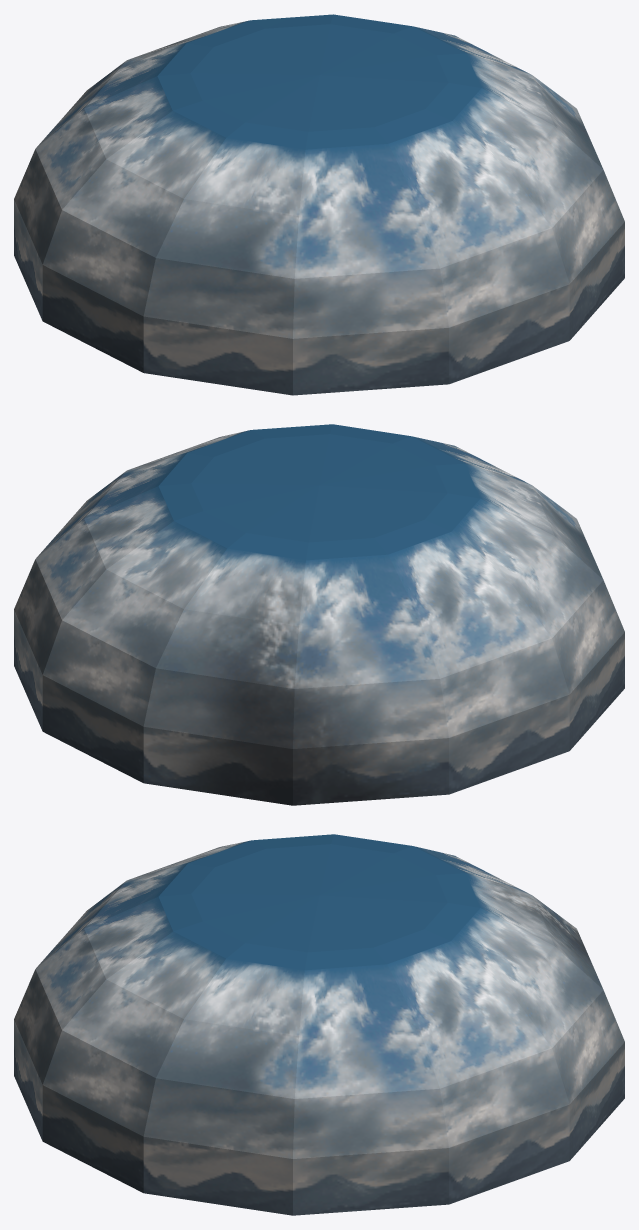
3 renders of one model, top to bottom at view 1: azimuth 30°, elevation 25°; view 2: azimuth 150°, elevation 25°; view 3: azimuth 270°, elevation 25°, orthographic.
Visible parts, largest first — view 1: mesh00; view 2: mesh00; view 3: mesh00.
Part boxes in pixels (box(x1,y1,x2,y2)): mesh00: box(14, 14, 624, 395); mesh00: box(14, 424, 624, 805); mesh00: box(14, 834, 624, 1215).
Bounding box in the file's own units: 88532 × 30803 × 88893.
